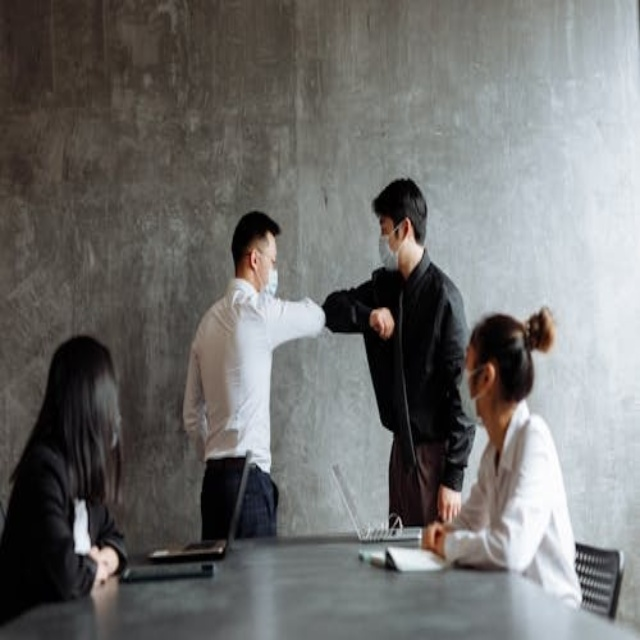Mascara: (458, 359, 484, 423), (259, 252, 287, 300), (378, 238, 404, 267)
Sin_gafas: (376, 221, 398, 240)
Sin_guantes: (435, 480, 466, 523), (369, 302, 398, 342)
